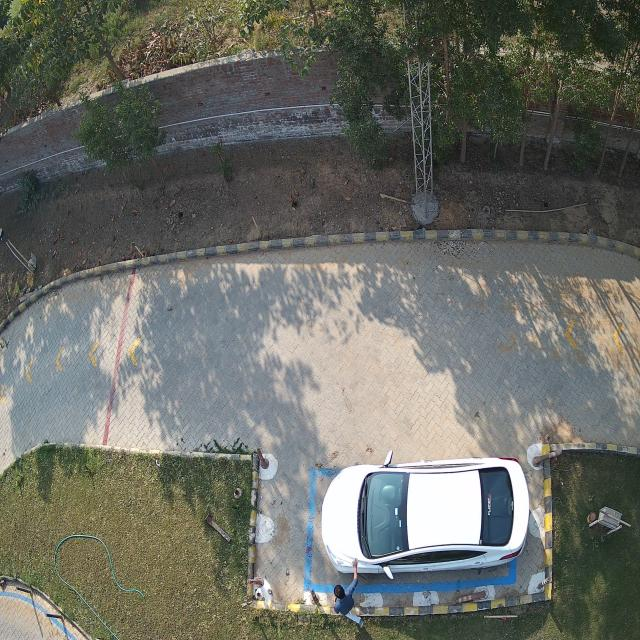car: (321, 457, 529, 577)
